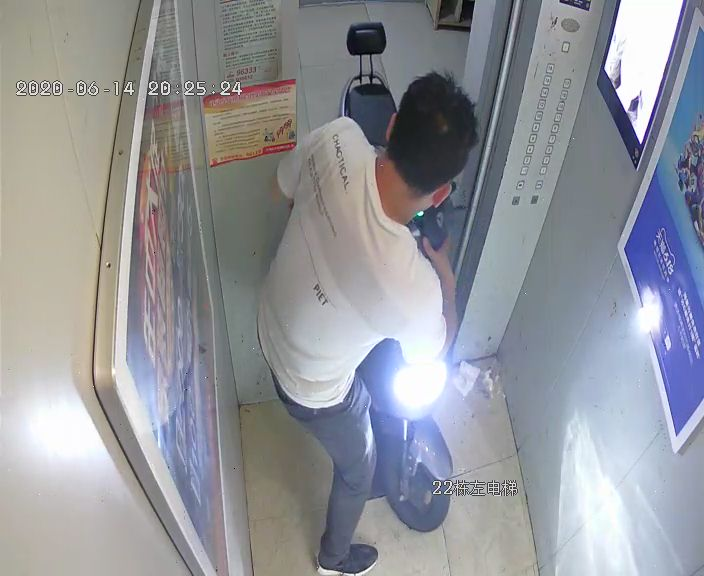Electric-bicycle: (320, 26, 476, 527)
